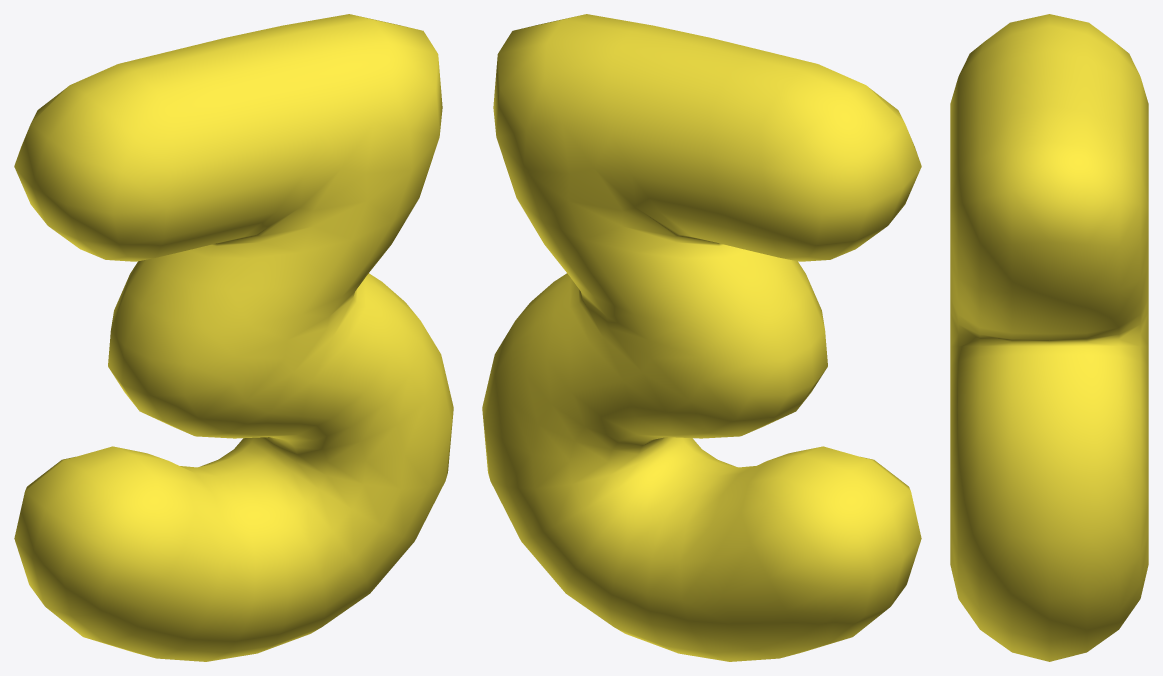
The picture shows the model from 3 angles, left to right: view 1: azimuth 30°, elevation 25°; view 2: azimuth 150°, elevation 25°; view 3: azimuth 270°, elevation 25°; orthographic projection. The views are drawn at different scales.
Visible parts, largest first — view 1: 3_wire_115115115_0; view 2: 3_wire_115115115_0; view 3: 3_wire_115115115_0.
Boxes of the visible parts, x1,y1,x2,y2 form: 3_wire_115115115_0: (14,14,453,661); 3_wire_115115115_0: (482,14,921,661); 3_wire_115115115_0: (950,14,1148,661).
Size of the model in its own units: 35.66 by 50.12 by 15.9.
